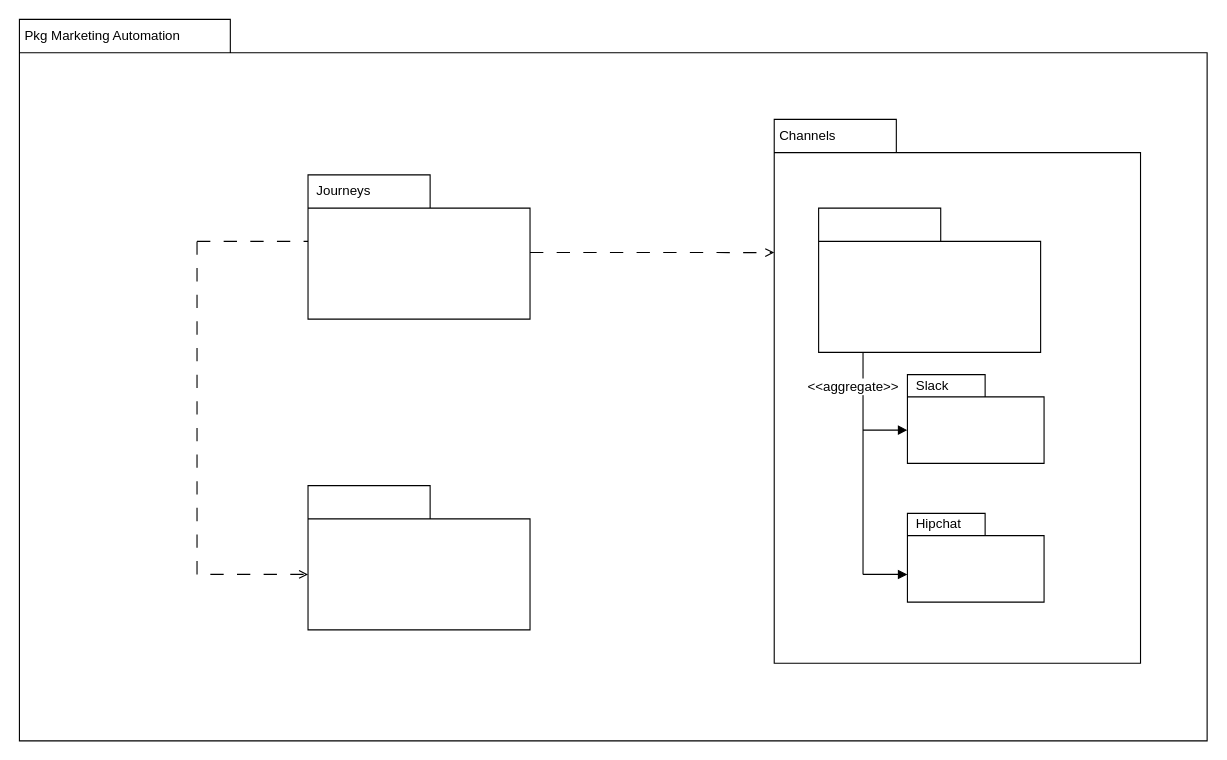
Image size: 1227x760. Some labels were removed from this diagram. The shapes that lost their labels are listed below. From the top down, each one's box as (x1, y1, x2, y2) in pixels, then its label:
(818, 207, 1041, 352): Apps drivers
(307, 485, 530, 630): Insights
